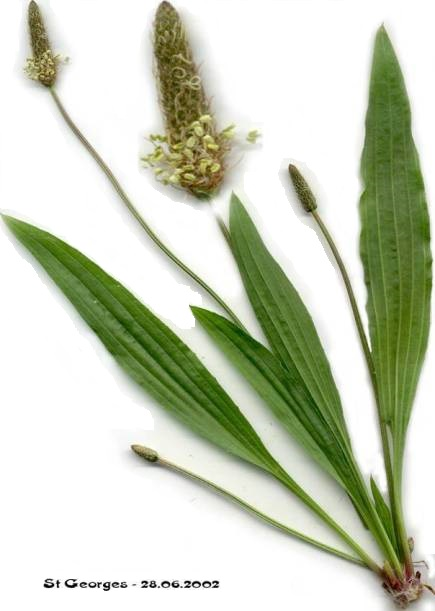buckhorn plantain: (12, 4, 435, 568)
